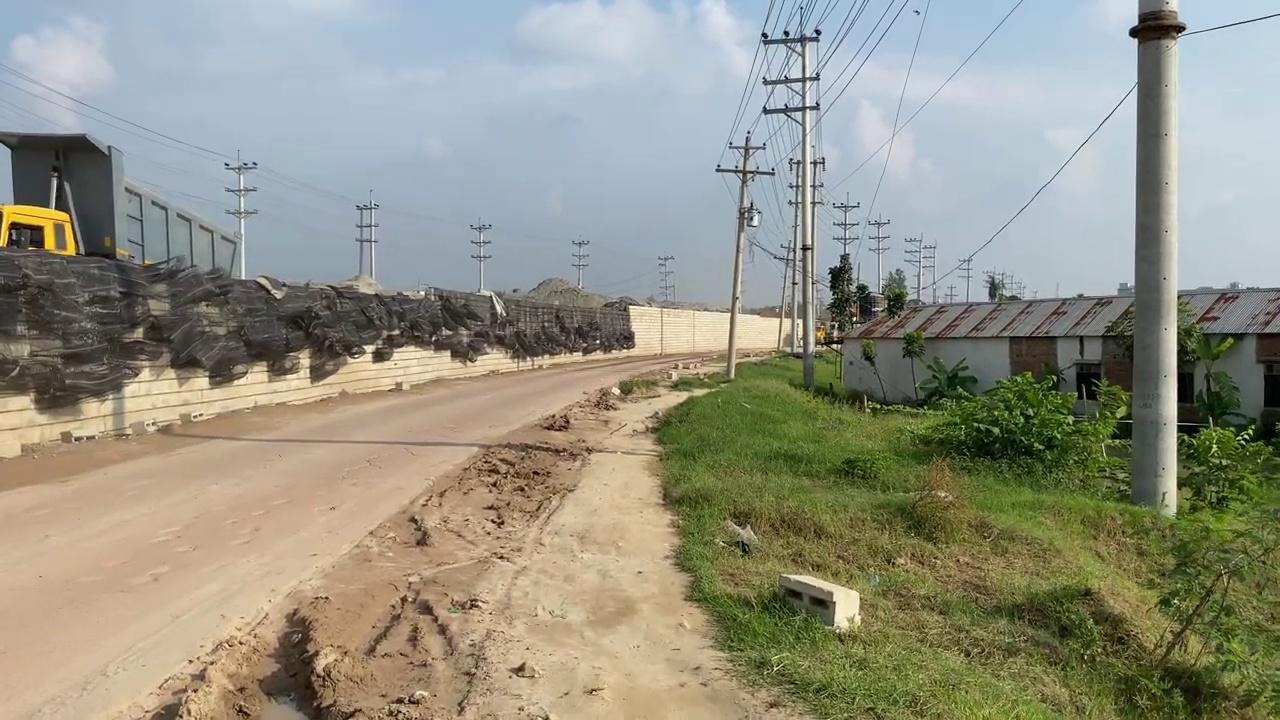Garbage: (0, 243, 638, 402)
Muddy road: (1, 343, 794, 718)
Obstacle: (776, 572, 860, 631)
Pole: (1128, 0, 1185, 518), (715, 131, 774, 380)
Traffic-sign: (824, 251, 857, 334), (881, 267, 908, 317)
Tree: (0, 117, 244, 267), (0, 203, 79, 256)
